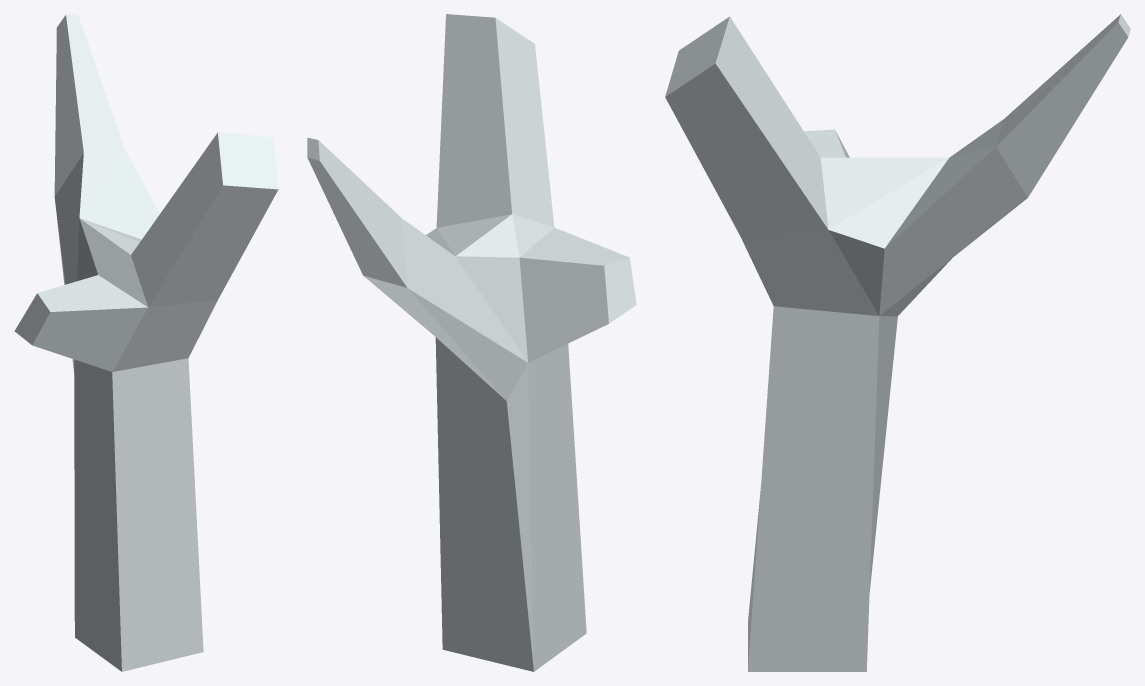
The model's file is Tree.006.fbx.
The picture shows the model from 3 angles, left to right: view 1: azimuth 30°, elevation 25°; view 2: azimuth 150°, elevation 25°; view 3: azimuth 270°, elevation 25°; orthographic projection. The views are drawn at different scales.
Parts seen in each view (by area): view 1: Tree.006; view 2: Tree.006; view 3: Tree.006.
Part boxes in pixels (box(x1,y1,x2,y2)): Tree.006: box(14, 14, 278, 671); Tree.006: box(307, 14, 636, 671); Tree.006: box(665, 14, 1130, 671).
Bounding box in the file's own units: 0.3585 × 0.8769 × 0.5573.
